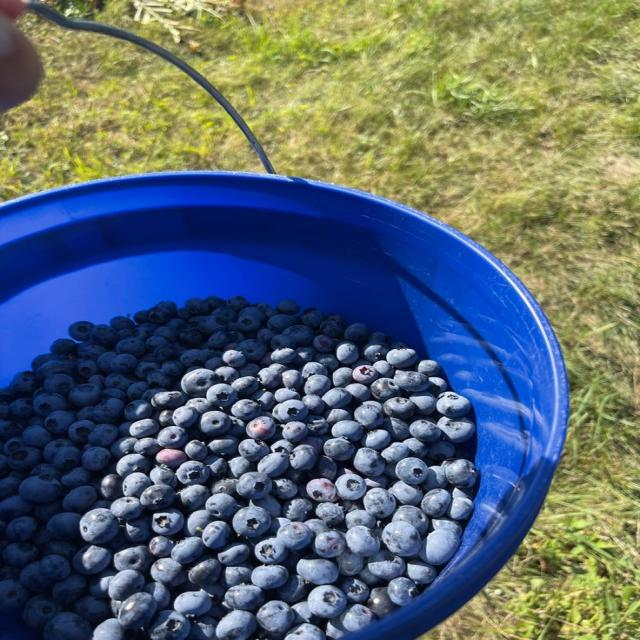blueberry: (420, 528, 459, 566), (4, 562, 53, 592), (131, 485, 175, 518), (80, 509, 119, 544), (44, 612, 93, 639), (307, 585, 346, 618), (256, 601, 294, 634), (23, 595, 60, 628), (148, 610, 190, 639), (19, 475, 61, 504), (367, 550, 406, 581), (216, 610, 256, 639), (233, 507, 271, 537), (180, 368, 219, 397), (73, 545, 112, 574), (297, 559, 339, 585), (108, 570, 144, 600), (188, 558, 221, 590), (114, 545, 153, 572), (151, 558, 187, 587), (346, 526, 379, 557), (393, 505, 428, 534), (225, 585, 264, 611), (363, 488, 396, 518), (53, 574, 86, 604), (340, 604, 375, 632), (236, 472, 272, 499), (277, 522, 313, 549), (249, 565, 288, 589), (174, 590, 211, 615), (438, 417, 475, 442), (176, 485, 210, 512), (171, 537, 205, 564), (446, 459, 477, 488), (0, 580, 29, 611), (387, 577, 418, 606), (47, 513, 80, 540), (313, 531, 346, 558), (354, 447, 384, 476), (421, 488, 451, 517), (176, 460, 209, 486), (254, 538, 287, 564), (437, 392, 470, 418), (389, 481, 423, 506), (367, 588, 395, 618), (395, 458, 427, 484), (152, 509, 184, 535), (183, 510, 215, 536), (206, 494, 239, 519), (5, 517, 38, 542), (116, 454, 151, 477), (249, 495, 281, 520), (202, 521, 230, 549), (221, 564, 253, 588), (217, 543, 250, 566), (124, 516, 152, 543), (340, 577, 369, 603), (289, 444, 318, 470), (407, 559, 437, 584), (370, 378, 401, 402), (40, 555, 71, 579), (111, 497, 143, 520), (323, 438, 355, 461), (310, 456, 338, 482), (247, 416, 276, 441), (207, 383, 237, 407), (394, 371, 428, 392), (410, 419, 441, 442), (277, 400, 308, 423), (307, 478, 336, 502), (93, 618, 126, 639), (283, 498, 313, 521), (384, 397, 414, 420), (421, 466, 447, 492), (149, 466, 178, 489), (157, 426, 187, 448), (316, 503, 344, 526), (291, 601, 319, 624), (209, 435, 239, 456), (321, 388, 352, 408), (386, 348, 417, 368), (332, 421, 363, 441), (285, 624, 326, 639), (361, 429, 390, 450), (410, 391, 435, 415), (156, 449, 187, 468), (381, 442, 409, 463), (304, 375, 332, 396), (173, 406, 199, 428), (129, 418, 159, 437), (346, 509, 376, 528), (447, 498, 473, 519), (362, 342, 389, 362), (149, 536, 174, 557), (353, 365, 379, 385), (404, 438, 430, 457), (302, 395, 325, 414), (332, 367, 352, 387), (416, 360, 441, 376), (428, 376, 447, 396), (294, 423, 306, 432)
